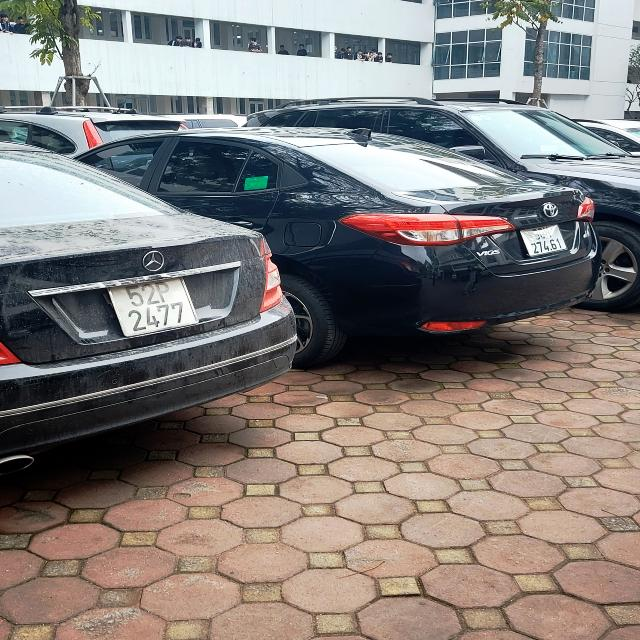license_plate: (109, 278, 199, 336), (520, 224, 569, 257)
